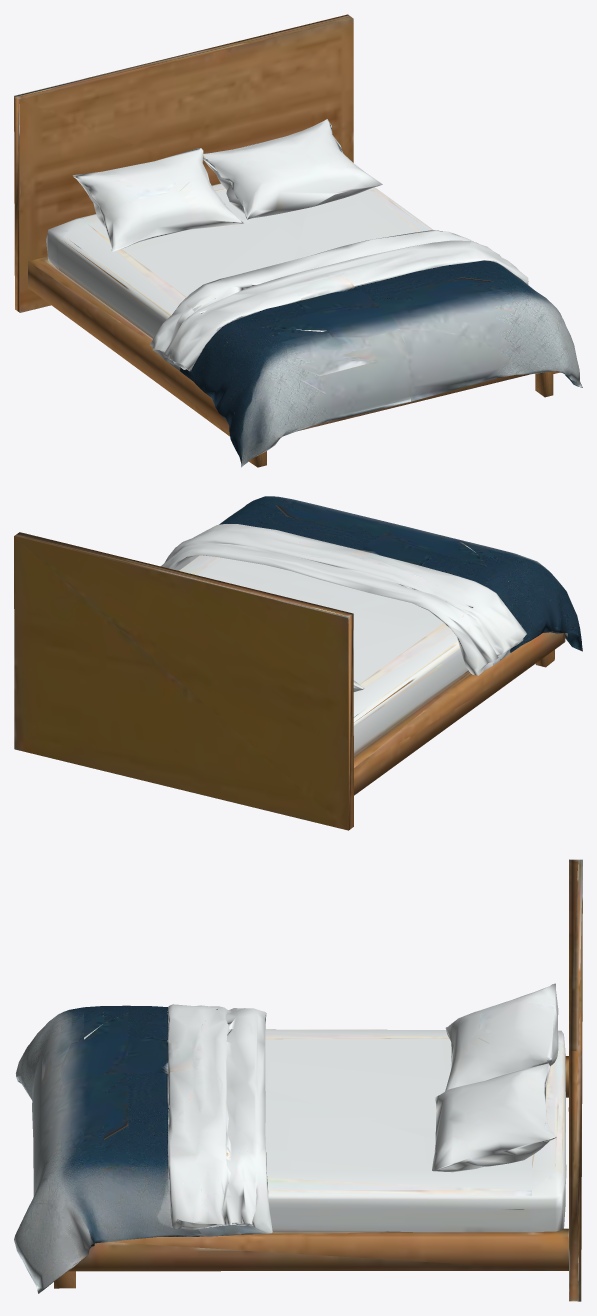
The model's file is BedroomBed.glb.
3 renders of one model, top to bottom at view 1: azimuth 30°, elevation 25°; view 2: azimuth 150°, elevation 25°; view 3: azimuth 270°, elevation 25°, orthographic. The views are drawn at different scales.
Bounding box in the file's own units: 0.8032 × 0.4673 × 0.9614.
Materials: 1 (1 with a texture image).
